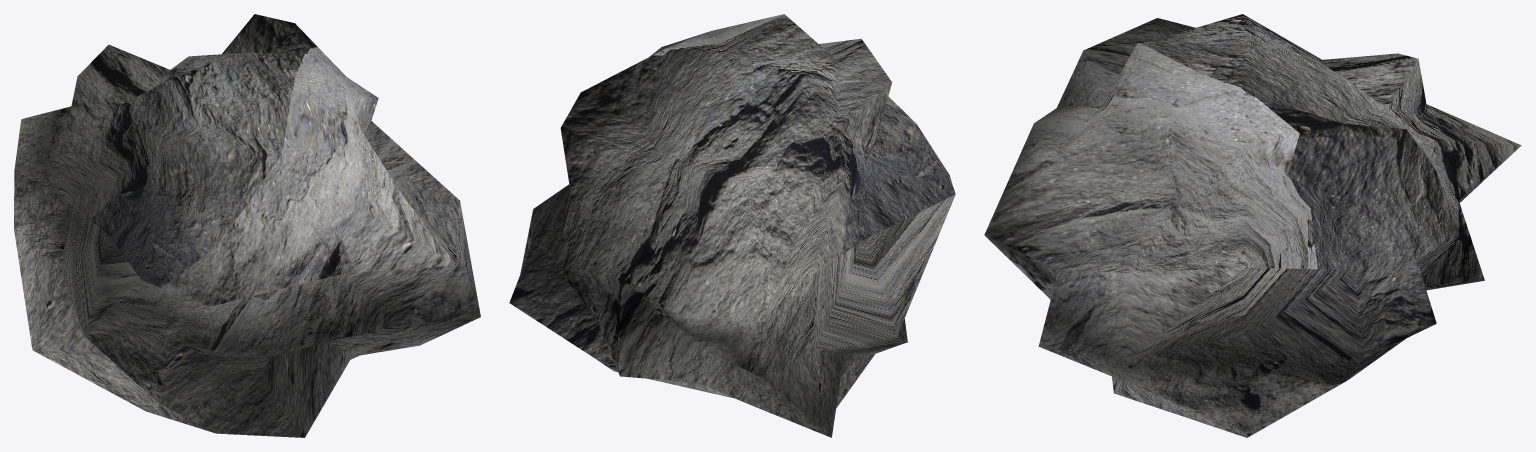
The model's file is rock2.FBX.
The picture shows the model from 3 angles, left to right: view 1: azimuth 30°, elevation 25°; view 2: azimuth 150°, elevation 25°; view 3: azimuth 270°, elevation 25°; orthographic projection. The views are drawn at different scales.
Parts seen in each view (by area): view 1: Box001; view 2: Box001; view 3: Box001.
Part boxes in pixels (x1,y1,x2,y2): Box001: (14,14,480,437); Box001: (509,14,955,437); Box001: (984,14,1521,437).
Bounding box in the file's own units: 90.59 × 127 × 91.3.
Materials: 1 (1 with a texture image).
